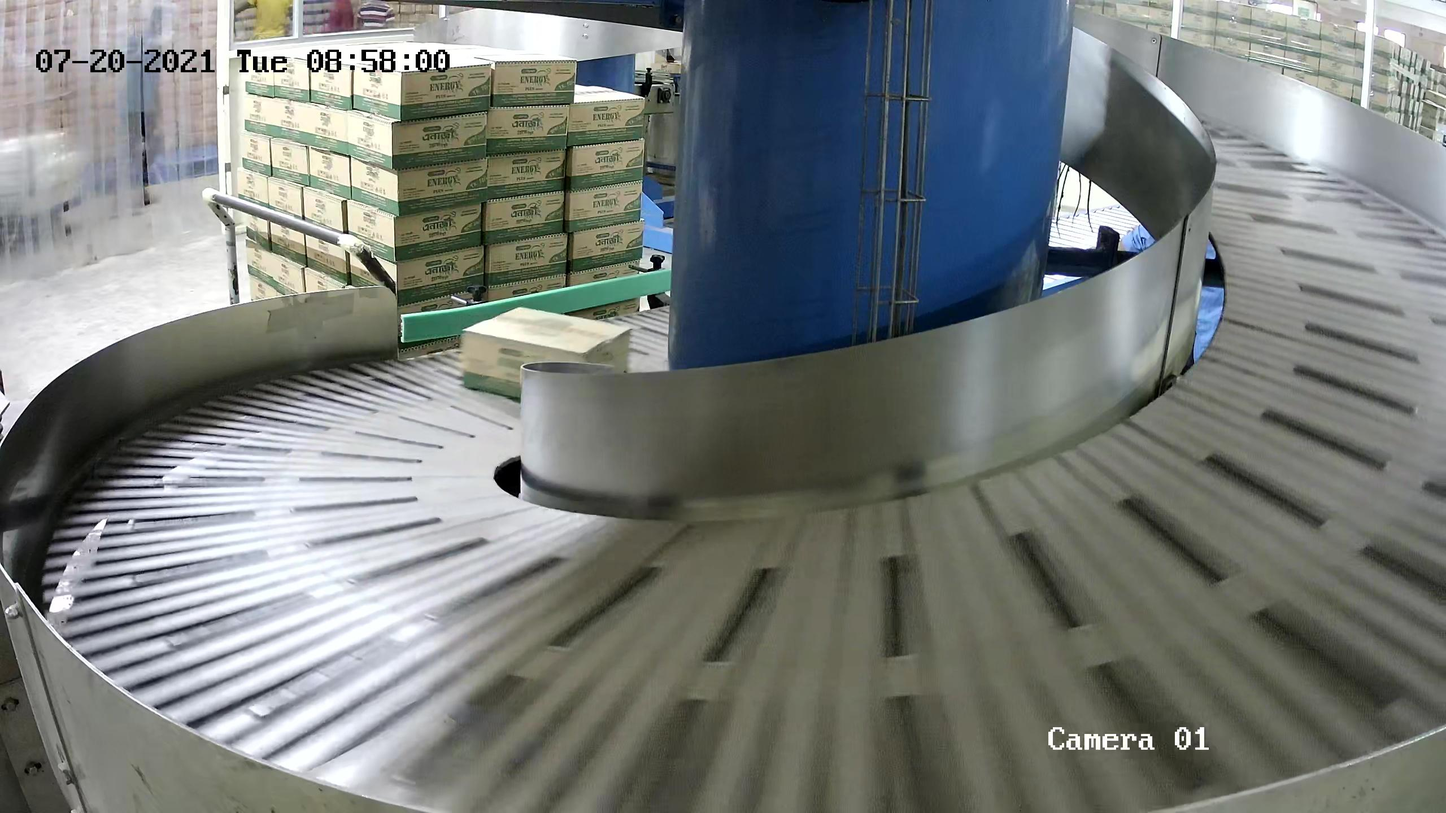Box: (459, 305, 634, 400)
